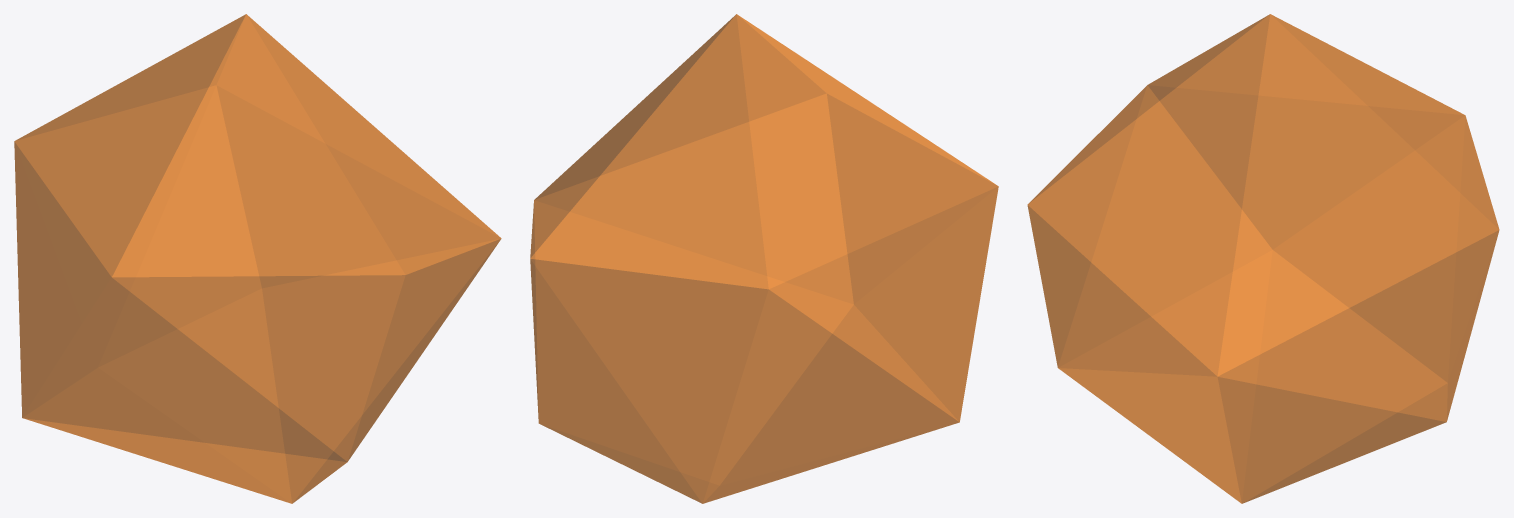
File: sparkRed.dae
The picture shows the model from 3 angles, left to right: view 1: azimuth 30°, elevation 25°; view 2: azimuth 150°, elevation 25°; view 3: azimuth 270°, elevation 25°; orthographic projection. The views are drawn at different scales.
Visible parts, largest first — view 1: spark1; view 2: spark1; view 3: spark1.
Boxes of the visible parts, box(x1,y1,x2,y2) form: spark1: box(14, 14, 501, 503); spark1: box(530, 14, 998, 503); spark1: box(1027, 14, 1499, 503).
Size of the model in its own units: 0.0966 by 0.0897 by 0.0996.
